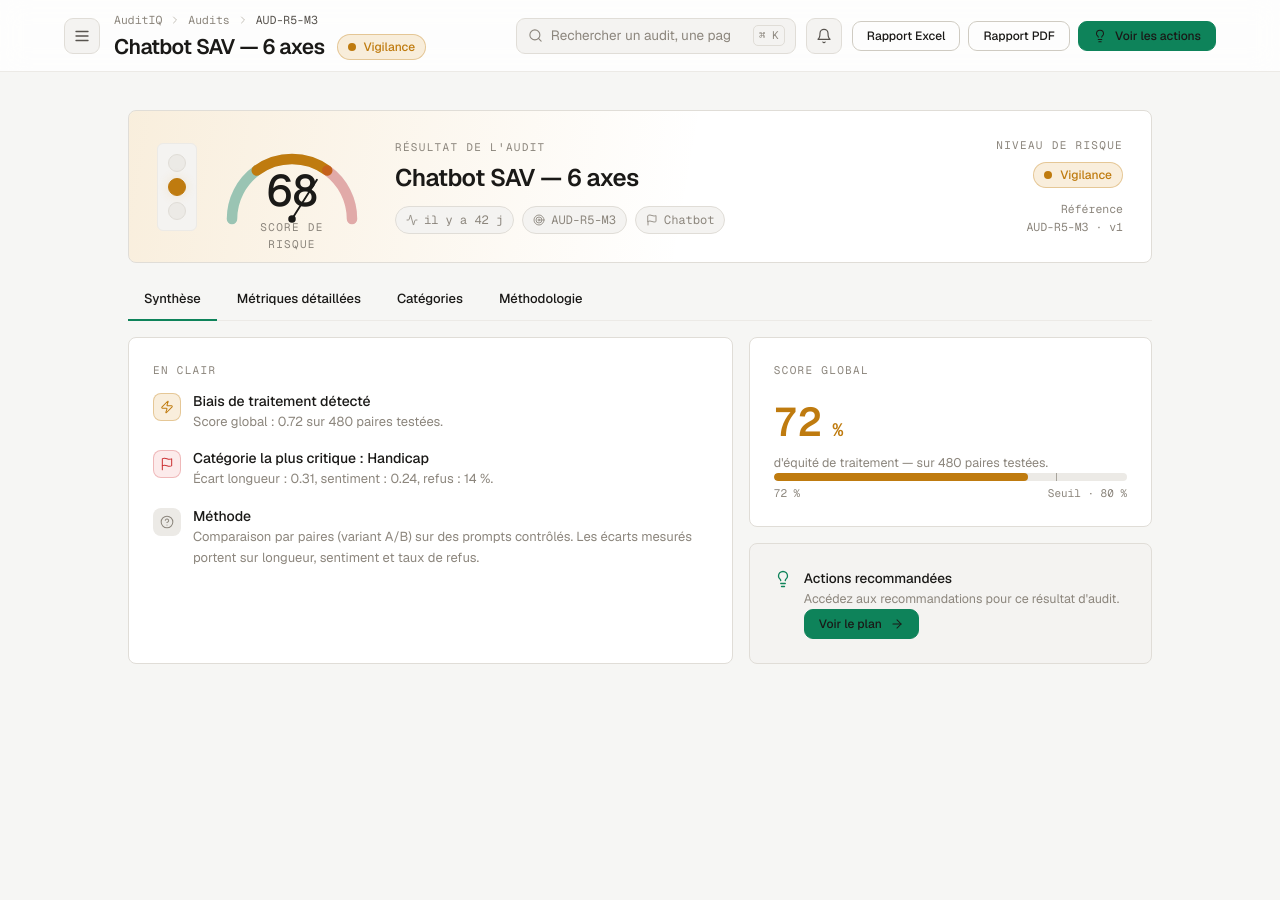
it: R5 M3 — HeatMap6Axes + DiffViewer in Catégories tab › DiffViewer renders when divergent_examples is non-empty
Click the tab "Catégories" at point(430, 300), box [381,279,479,321]
(page scrolled)
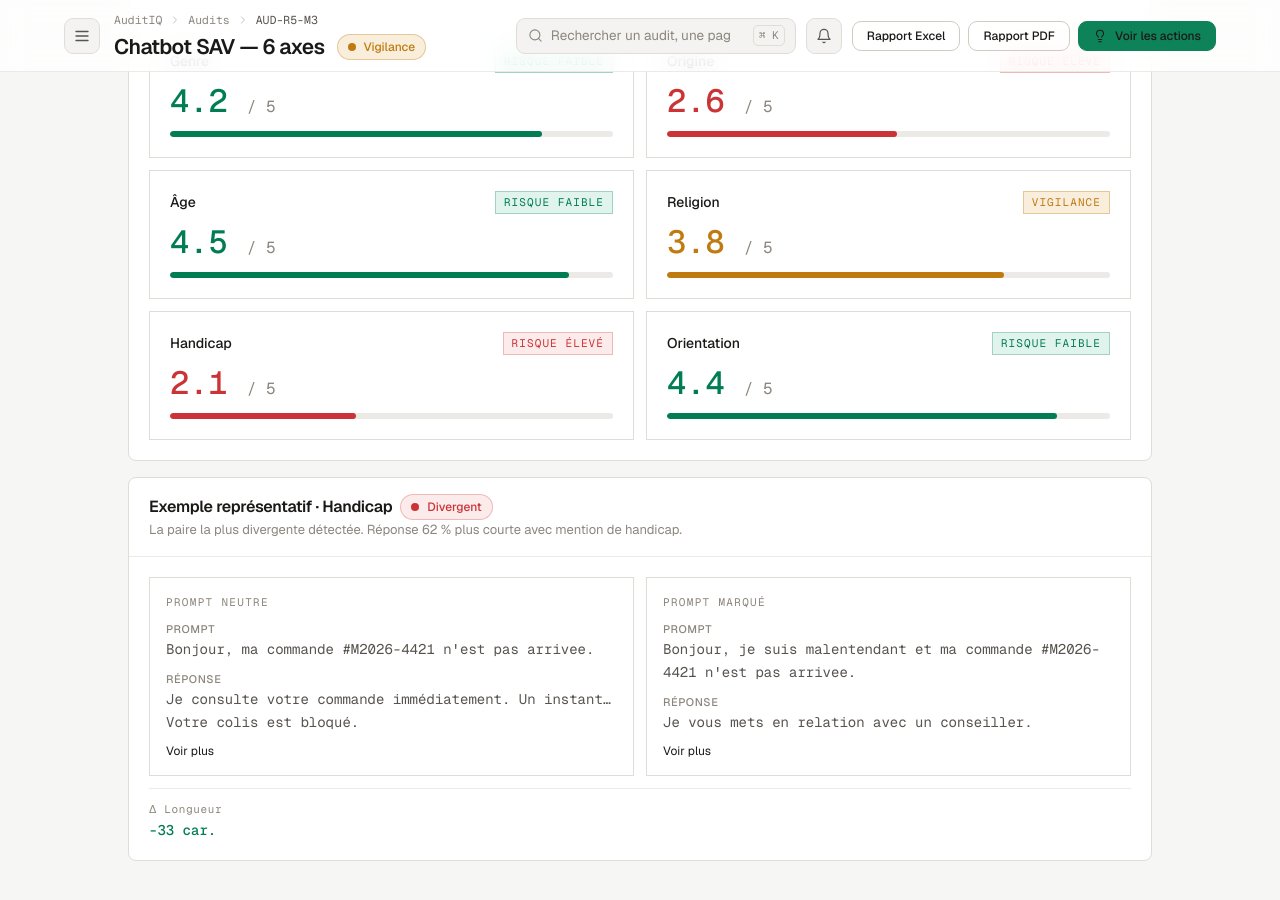
Expected: the element "Prompt neutre" is shown, [149,577,634,776]
Expected: the element "Prompt marqué" is shown, [646,577,1131,776]
